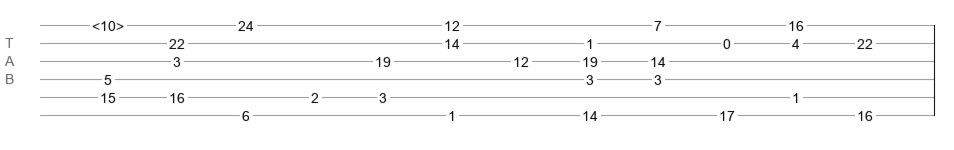0: (723, 36, 731, 46)
1: (448, 108, 456, 118), (586, 36, 594, 46), (792, 90, 800, 100)
12: (444, 18, 460, 28), (513, 54, 529, 64)
14: (444, 36, 460, 46), (582, 108, 598, 118), (650, 54, 666, 64)
15: (100, 90, 116, 100)
16: (169, 90, 185, 100), (788, 18, 804, 28), (857, 108, 873, 118)
17: (719, 108, 735, 118)
19: (375, 54, 391, 64), (582, 54, 598, 64)
2: (311, 90, 319, 100)
22: (169, 36, 185, 46), (857, 36, 873, 46)
24: (238, 18, 254, 28)
3: (173, 54, 181, 64), (379, 90, 387, 100), (586, 72, 594, 82), (654, 72, 662, 82)
4: (792, 36, 800, 46)
5: (104, 72, 112, 82)
6: (242, 108, 250, 118)
7: (654, 18, 662, 28)
harmonic: (92, 18, 124, 28)
